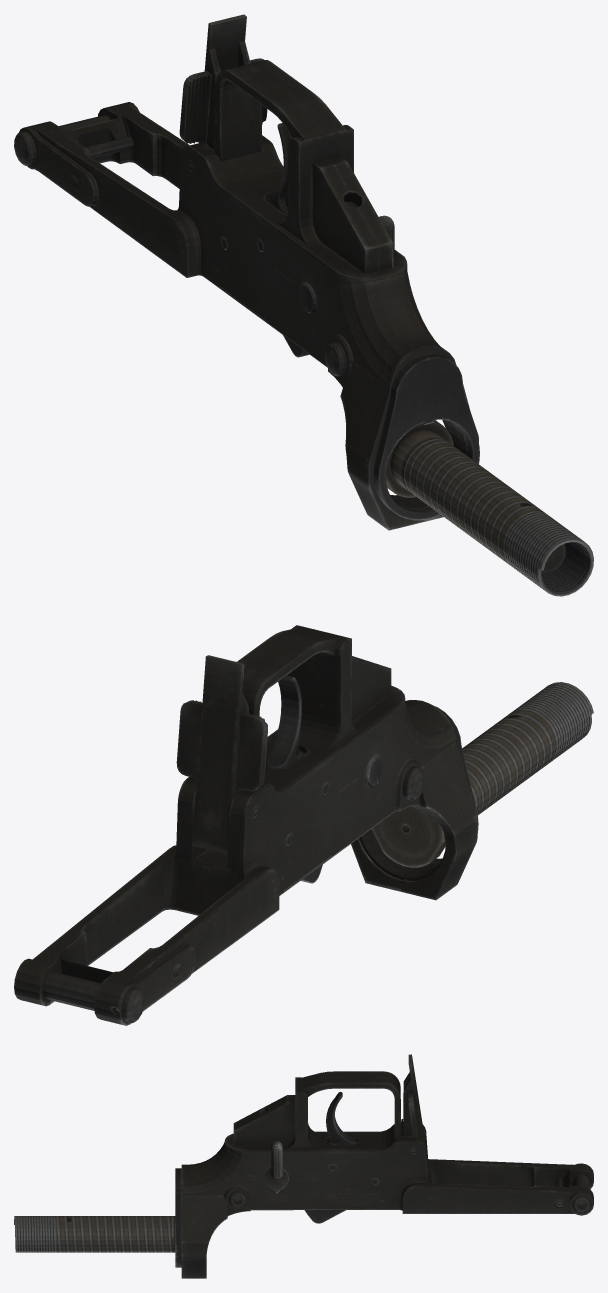
The picture shows the model from 3 angles, top to bottom: view 1: azimuth 30°, elevation 25°; view 2: azimuth 150°, elevation 25°; view 3: azimuth 270°, elevation 25°; orthographic projection. The views are drawn at different scales.
Parts seen in each view (by area): view 1: TW_606587252535c57a13424cfd_PZ_Import; view 2: TW_606587252535c57a13424cfd_PZ_Import; view 3: TW_606587252535c57a13424cfd_PZ_Import.
Part boxes in pixels (x1,y1,x2,y2): TW_606587252535c57a13424cfd_PZ_Import: [14, 14, 593, 596]; TW_606587252535c57a13424cfd_PZ_Import: [14, 625, 593, 1025]; TW_606587252535c57a13424cfd_PZ_Import: [14, 1054, 593, 1278].
Bounding box in the file's own units: 0.0232 × 0.1702 × 0.0677.
Materials: 1 (1 with a texture image).
